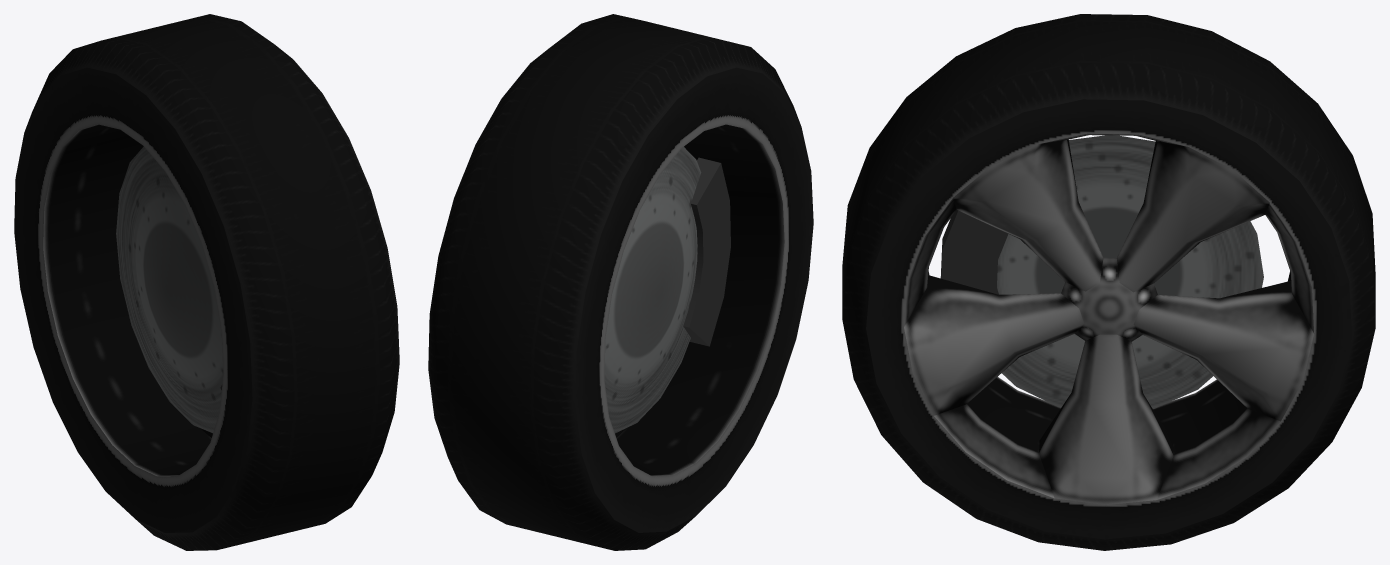
Rendered from roda policial.fbx.
3 renders of one model, left to right at view 1: azimuth 30°, elevation 25°; view 2: azimuth 150°, elevation 25°; view 3: azimuth 270°, elevation 25°, orthographic. The views are drawn at different scales.
Visible parts, largest first — view 1: Wheel_Front_Left_PoliceCar_Wheels_0; view 2: Wheel_Front_Left_PoliceCar_Wheels_0; view 3: Wheel_Front_Left_PoliceCar_Wheels_0.
Boxes of the visible parts, bbox=[...] form: Wheel_Front_Left_PoliceCar_Wheels_0: bbox=[14, 14, 399, 550]; Wheel_Front_Left_PoliceCar_Wheels_0: bbox=[428, 14, 813, 550]; Wheel_Front_Left_PoliceCar_Wheels_0: bbox=[842, 14, 1375, 550].
Size of the model in its own units: 2425 by 7447 by 7454.
